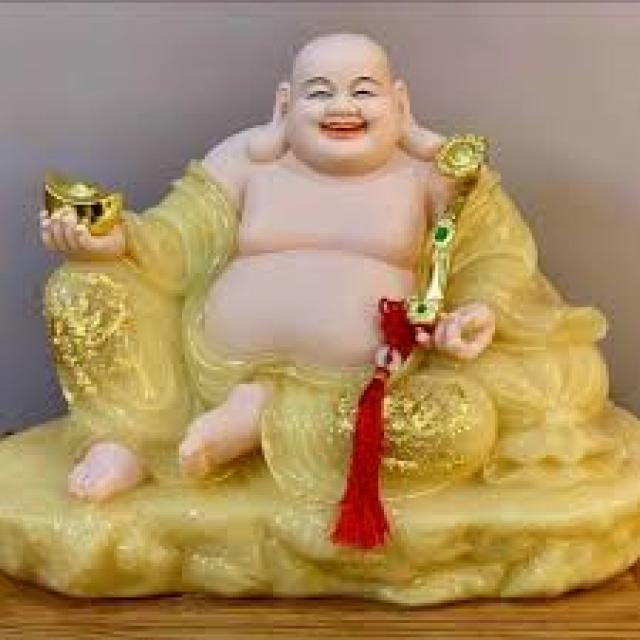Smiling Buddha: (149, 30, 488, 490)
